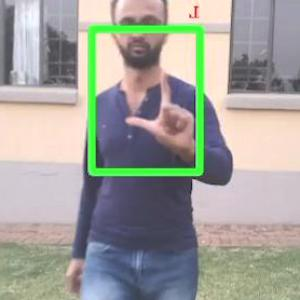land_hand: (117, 59, 202, 160)
